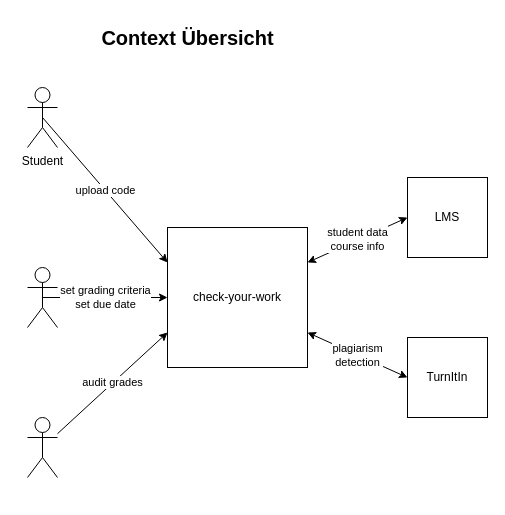
Image size: 505x515. Some labels were removed from this diagram. The centre of each missing label's shape, as x and y in pixels:
Auditor: (x=42, y=447)
Professor: (x=42, y=297)
